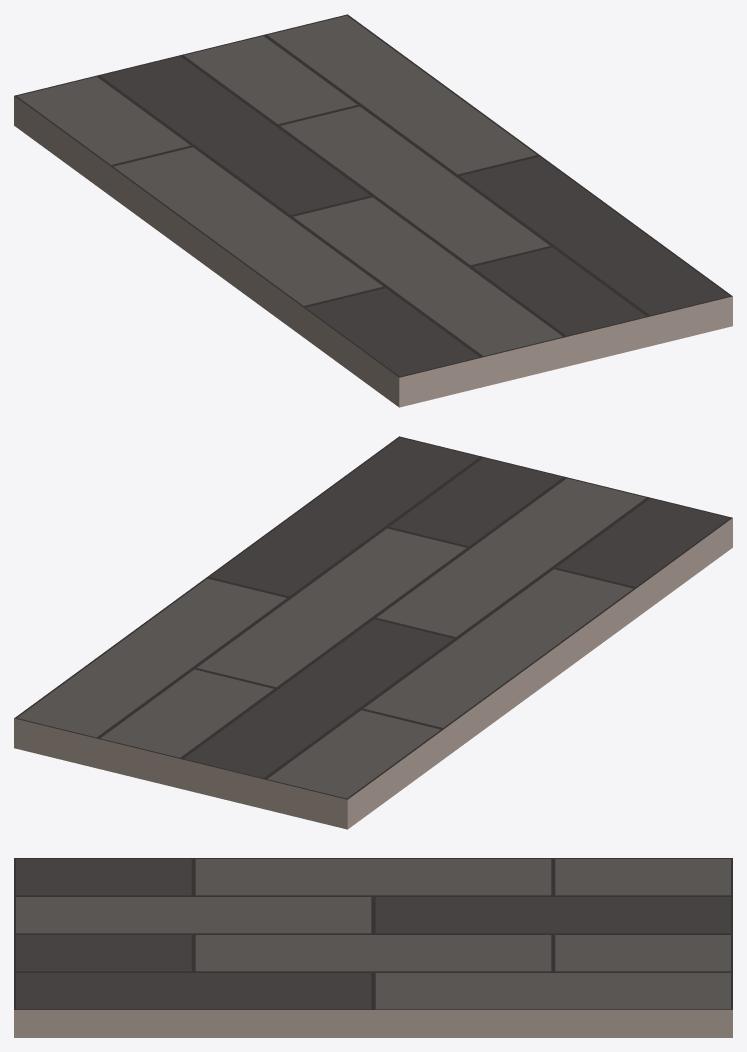
File: Floor_13.fbx
3 views of the same model, one above another, from view 1: azimuth 30°, elevation 25°; view 2: azimuth 150°, elevation 25°; view 3: azimuth 270°, elevation 25° (orthographic). The views are drawn at different scales.
Parts seen in each view (by area): view 1: Floor_13; view 2: Floor_13; view 3: Floor_13.
Boxes of the visible parts, left/top/right/bottom form: Floor_13: left=14, top=14, right=732, bottom=407; Floor_13: left=14, top=436, right=732, bottom=829; Floor_13: left=14, top=858, right=732, bottom=1037.
Size of the model in its own units: 130 by 11.07 by 259.
